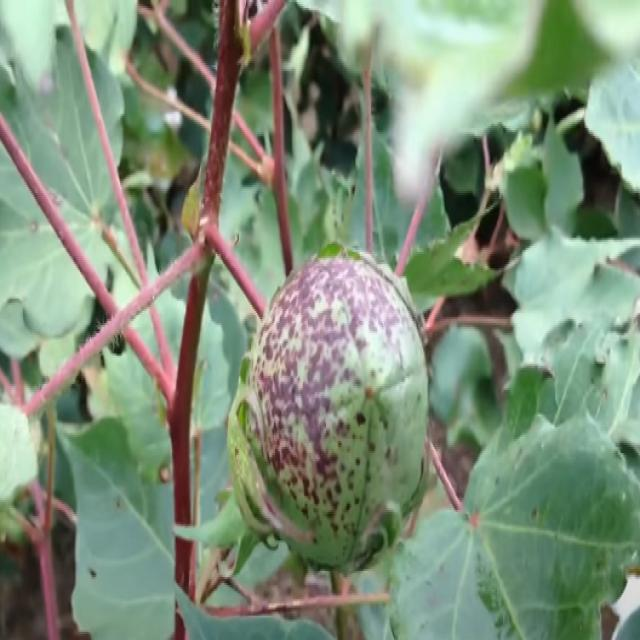Early Boll: (230, 241, 444, 591)
